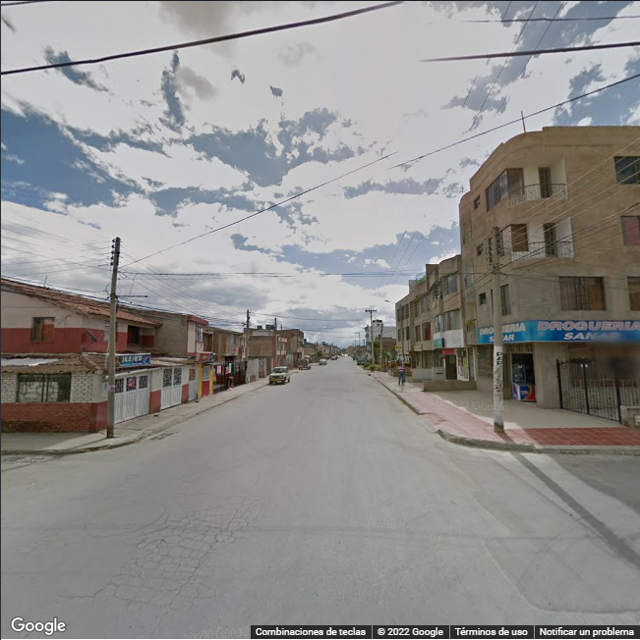D10: (49, 590, 96, 600)
D20: (110, 505, 255, 602)
